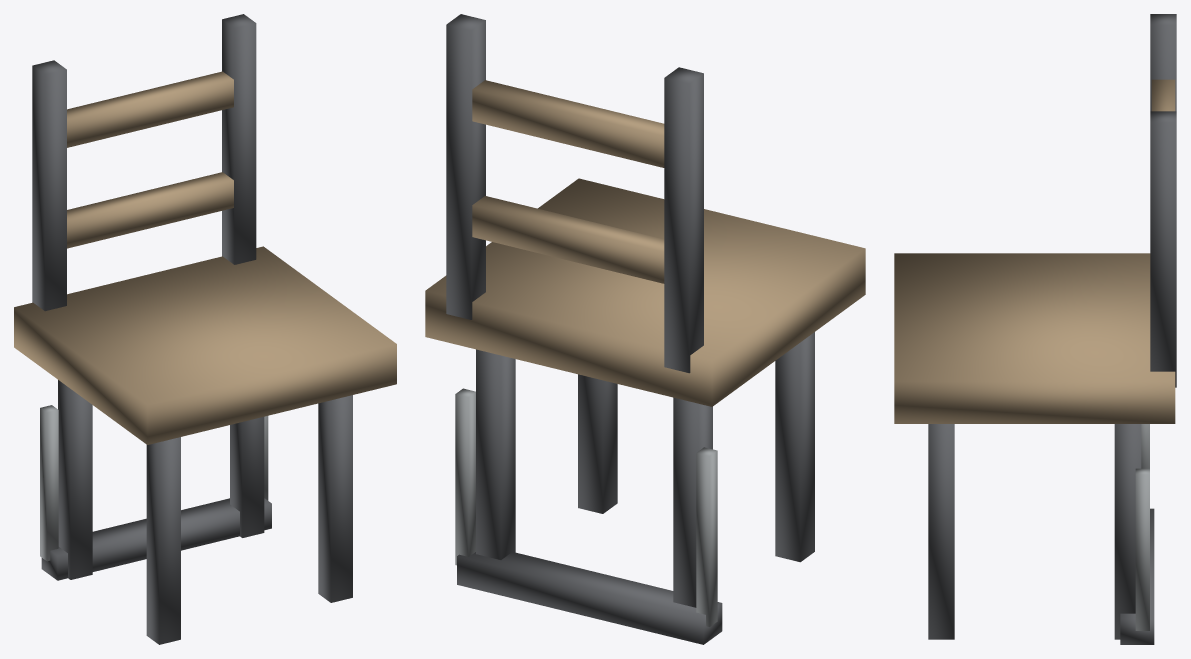
File: dining_chair__reinforced.glb
The picture shows the model from 3 angles, left to right: view 1: azimuth 30°, elevation 25°; view 2: azimuth 150°, elevation 25°; view 3: azimuth 270°, elevation 25°; orthographic projection. The views are drawn at different scales.
Visible parts, largest first — view 1: world; view 2: world; view 3: world.
Boxes of the visible parts, x1,y1,x2,y2 form: world: (14,14,396,644); world: (425,14,865,644); world: (894,14,1176,644).
Size of the model in its own units: 0.5291 by 1 by 0.4929.
